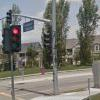Traffic light: (3, 9, 29, 61)
